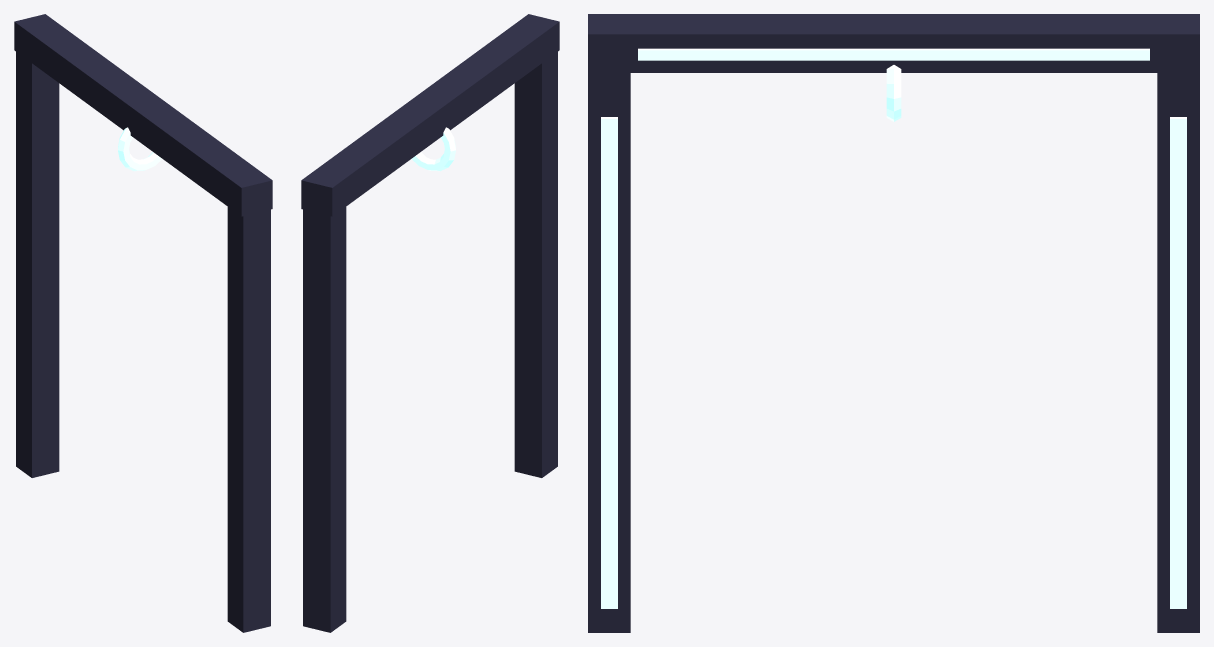
Rendered from pendulum_frame.glb.
The picture shows the model from 3 angles, left to right: view 1: azimuth 30°, elevation 25°; view 2: azimuth 150°, elevation 25°; view 3: azimuth 270°, elevation 25°; orthographic projection. The views are drawn at different scales.
Parts seen in each view (by area): view 1: PendulumFrame; view 2: PendulumFrame; view 3: PendulumFrame.
Boxes of the visible parts, x1=… form: PendulumFrame: x1=14, y1=14, x2=272, y2=632; PendulumFrame: x1=301, y1=14, x2=559, y2=632; PendulumFrame: x1=588, y1=14, x2=1199, y2=632.
Bounding box in the file's own units: 0.56 × 4.65 × 4.3.
